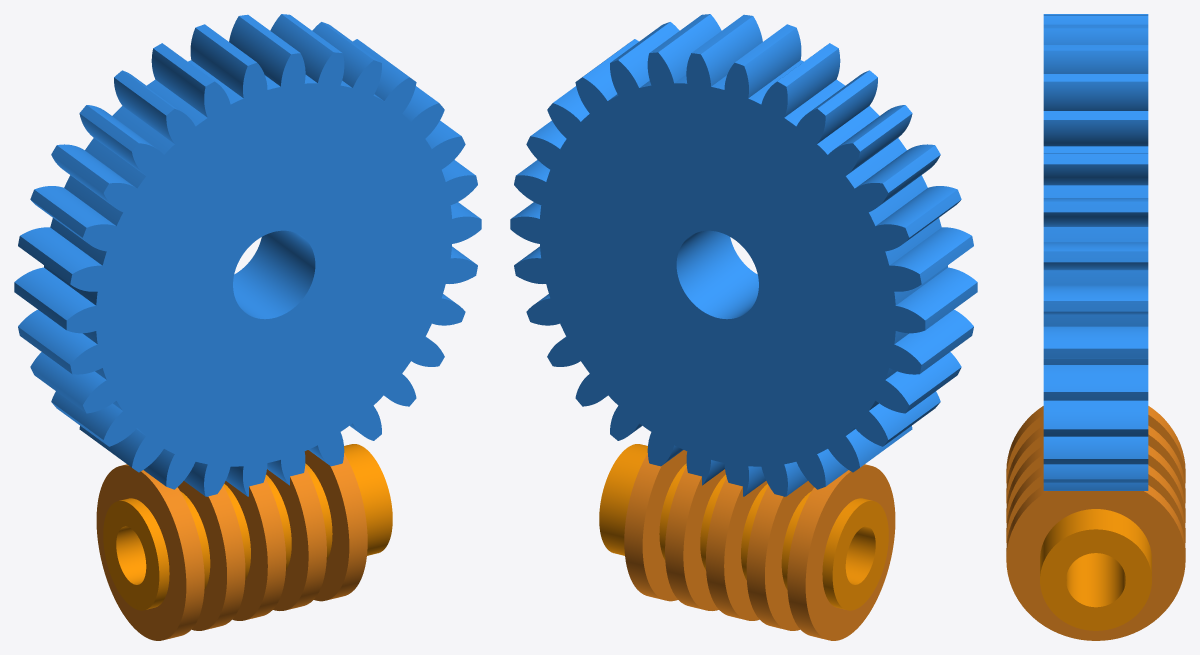
The model's file is assembly.glb.
3 views of the same model, side by side, from view 1: azimuth 30°, elevation 25°; view 2: azimuth 150°, elevation 25°; view 3: azimuth 270°, elevation 25° (orthographic).
Visible parts, largest first — view 1: worm-m2-z1-30/wheel, worm-m2-z1-30/worm-core, worm-m2-z1-30/worm-thread-1, worm-m2-z1-30/worm-thread-5, worm-m2-z1-30/worm-thread-2, worm-m2-z1-30/worm-thread-4, worm-m2-z1-30/worm-thread-3; view 2: worm-m2-z1-30/wheel, worm-m2-z1-30/worm-core, worm-m2-z1-30/worm-thread-1, worm-m2-z1-30/worm-thread-5, worm-m2-z1-30/worm-thread-2, worm-m2-z1-30/worm-thread-4, worm-m2-z1-30/worm-thread-3; view 3: worm-m2-z1-30/wheel, worm-m2-z1-30/worm-thread-5, worm-m2-z1-30/worm-core, worm-m2-z1-30/worm-thread-4, worm-m2-z1-30/worm-thread-3, worm-m2-z1-30/worm-thread-1, worm-m2-z1-30/worm-thread-2.
Boxes of the visible parts, bbox=[...] form: worm-m2-z1-30/wheel: bbox=[14, 14, 481, 496]; worm-m2-z1-30/worm-core: bbox=[103, 444, 392, 610]; worm-m2-z1-30/worm-thread-1: bbox=[96, 464, 204, 640]; worm-m2-z1-30/worm-thread-5: bbox=[304, 450, 367, 601]; worm-m2-z1-30/worm-thread-2: bbox=[178, 481, 245, 630]; worm-m2-z1-30/worm-thread-4: bbox=[266, 466, 326, 610]; worm-m2-z1-30/worm-thread-3: bbox=[224, 478, 286, 620]; worm-m2-z1-30/wheel: bbox=[510, 14, 977, 496]; worm-m2-z1-30/worm-core: bbox=[599, 444, 888, 610]; worm-m2-z1-30/worm-thread-1: bbox=[787, 464, 895, 640]; worm-m2-z1-30/worm-thread-5: bbox=[624, 450, 687, 601]; worm-m2-z1-30/worm-thread-2: bbox=[746, 481, 813, 630]; worm-m2-z1-30/worm-thread-4: bbox=[665, 466, 725, 610]; worm-m2-z1-30/worm-thread-3: bbox=[705, 478, 767, 620]; worm-m2-z1-30/wheel: bbox=[1043, 14, 1148, 490]; worm-m2-z1-30/worm-thread-5: bbox=[1006, 485, 1185, 640]; worm-m2-z1-30/worm-core: bbox=[1040, 509, 1151, 630]; worm-m2-z1-30/worm-thread-4: bbox=[1006, 465, 1185, 542]; worm-m2-z1-30/worm-thread-3: bbox=[1006, 445, 1185, 522]; worm-m2-z1-30/worm-thread-1: bbox=[1006, 406, 1185, 483]; worm-m2-z1-30/worm-thread-2: bbox=[1006, 425, 1185, 502].
Size of the model in its own units: 0.064 by 0.0839 by 0.024.
